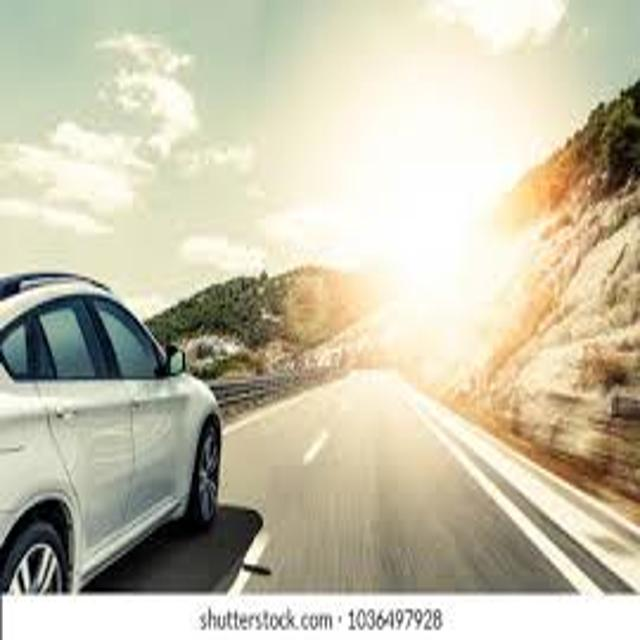car: (1, 272, 222, 595)
